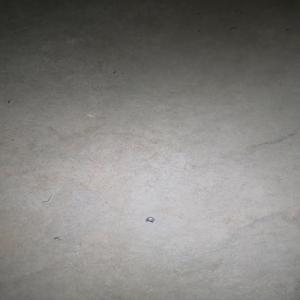Nut: (144, 216, 155, 223)
